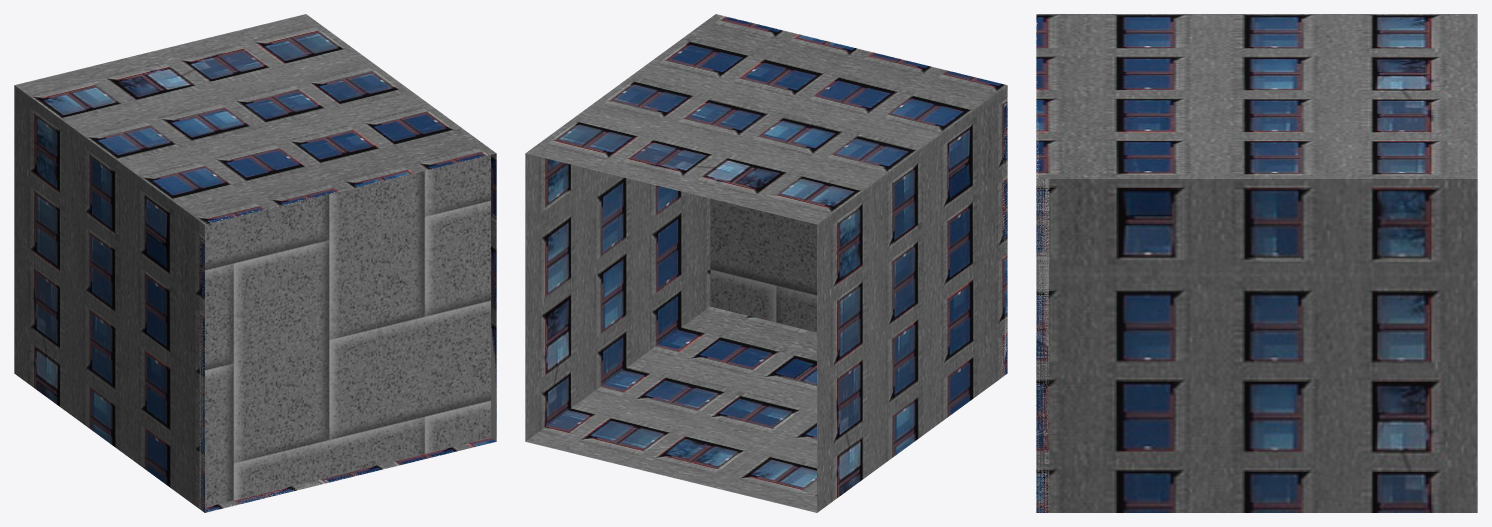
File: bpbuilding2_wtf.obj
The picture shows the model from 3 angles, left to right: view 1: azimuth 30°, elevation 25°; view 2: azimuth 150°, elevation 25°; view 3: azimuth 270°, elevation 25°; orthographic projection. The views are drawn at different scales.
Visible parts, largest first — view 1: group4, group3, group5; view 2: group4, group3, group5; view 3: group4, group5.
Part boxes in pixels (bbox=[...]): group4: bbox=[14, 14, 496, 512]; group3: bbox=[205, 155, 490, 507]; group5: bbox=[199, 153, 496, 511]; group4: bbox=[525, 14, 1007, 512]; group3: bbox=[710, 198, 816, 332]; group5: bbox=[719, 15, 1007, 377]; group4: bbox=[1036, 14, 1477, 512]; group5: bbox=[1036, 14, 1049, 512].
Bounding box in the file's own units: 584 × 551 × 660.
